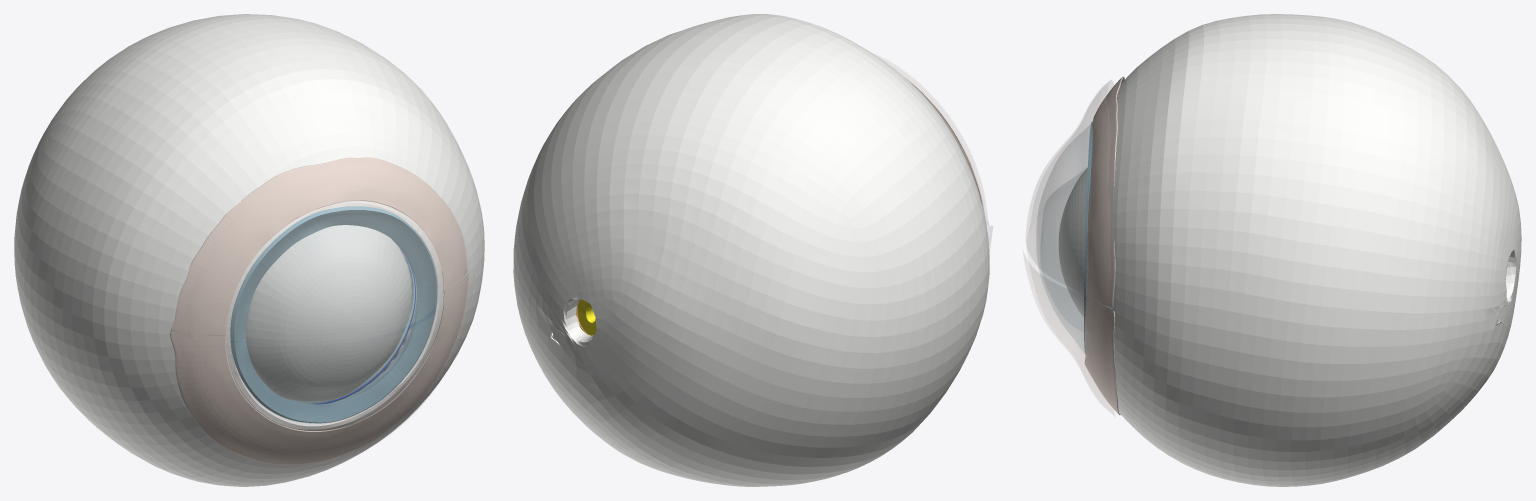
Rendered from 3DPX-020999.glb.
3 renders of one model, left to right at view 1: azimuth 30°, elevation 25°; view 2: azimuth 150°, elevation 25°; view 3: azimuth 270°, elevation 25°, orthographic.
Visible parts, largest first — view 1: VH_M_sclera_R, VH_M_palpebral_conjunctiva_of_lower_eyelid_R, VH_M_aqueous_humor_R, VH_M_cornea_R, VH_M_bulbar_conjunctiva_R; view 2: VH_M_sclera_R, VH_M_palpebral_conjunctiva_of_lower_eyelid_R, VH_M_aqueous_humor_R; view 3: VH_M_sclera_R, VH_M_palpebral_conjunctiva_of_lower_eyelid_R, VH_M_bulbar_conjunctiva_R, VH_M_cornea_R, VH_M_aqueous_humor_R.
Part boxes in pixels (<box>): VH_M_sclera_R: <box>14,14,484,486</box>; VH_M_palpebral_conjunctiva_of_lower_eyelid_R: <box>175,162,473,467</box>; VH_M_aqueous_humor_R: <box>230,206,437,423</box>; VH_M_cornea_R: <box>231,207,437,422</box>; VH_M_bulbar_conjunctiva_R: <box>169,157,468,464</box>; VH_M_sclera_R: <box>513,14,989,486</box>; VH_M_palpebral_conjunctiva_of_lower_eyelid_R: <box>875,54,992,248</box>; VH_M_aqueous_humor_R: <box>576,299,596,335</box>; VH_M_sclera_R: <box>1085,14,1521,486</box>; VH_M_palpebral_conjunctiva_of_lower_eyelid_R: <box>1023,80,1115,417</box>; VH_M_bulbar_conjunctiva_R: <box>1084,76,1124,414</box>; VH_M_cornea_R: <box>1037,124,1091,353</box>; VH_M_aqueous_humor_R: <box>1058,121,1092,353</box>.
Size of the model in its own units: 0.0245 by 0.0244 by 0.0257.
5 materials, 5 textured.
